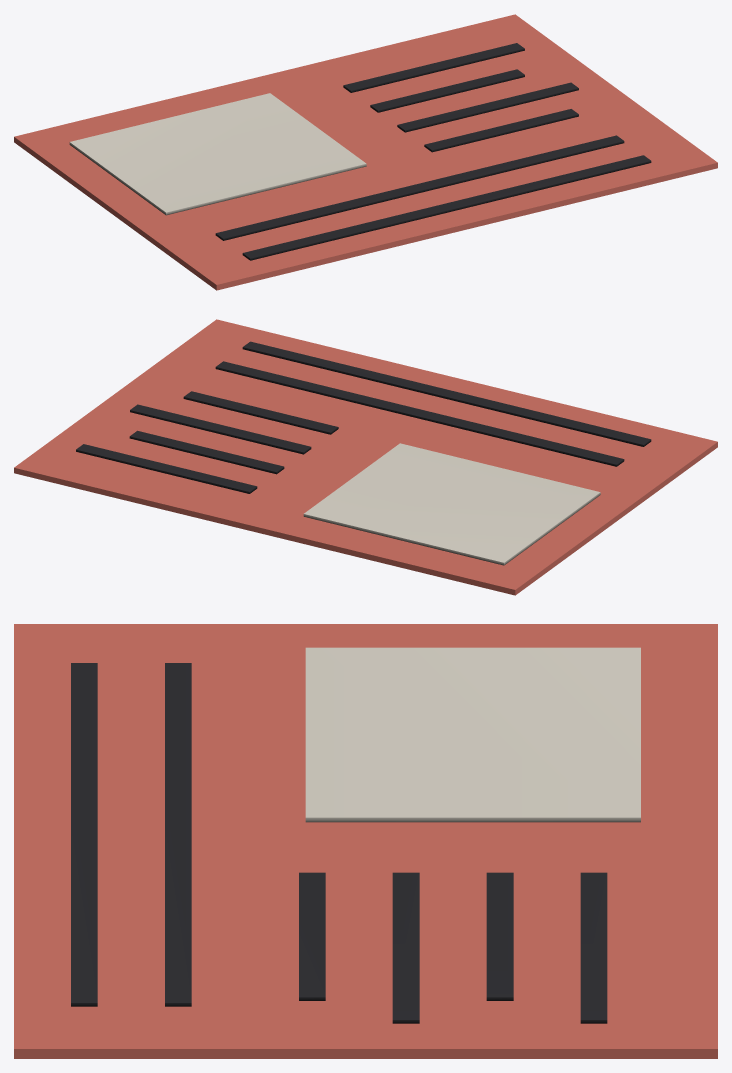
The model's file is forage_page.glb.
3 renders of one model, top to bottom at view 1: azimuth 30°, elevation 25°; view 2: azimuth 150°, elevation 25°; view 3: azimuth 270°, elevation 25°, orthographic. The views are drawn at different scales.
Parts seen in each view (by area): view 1: PART; view 2: PART; view 3: PART.
Part boxes in pixels (left/top/right/bottom): PART: left=14, top=14, right=717, bottom=290; PART: left=14, top=319, right=717, bottom=595; PART: left=14, top=624, right=717, bottom=1058.
Size of the model in its own units: 0.15 by 0.0024 by 0.105.
